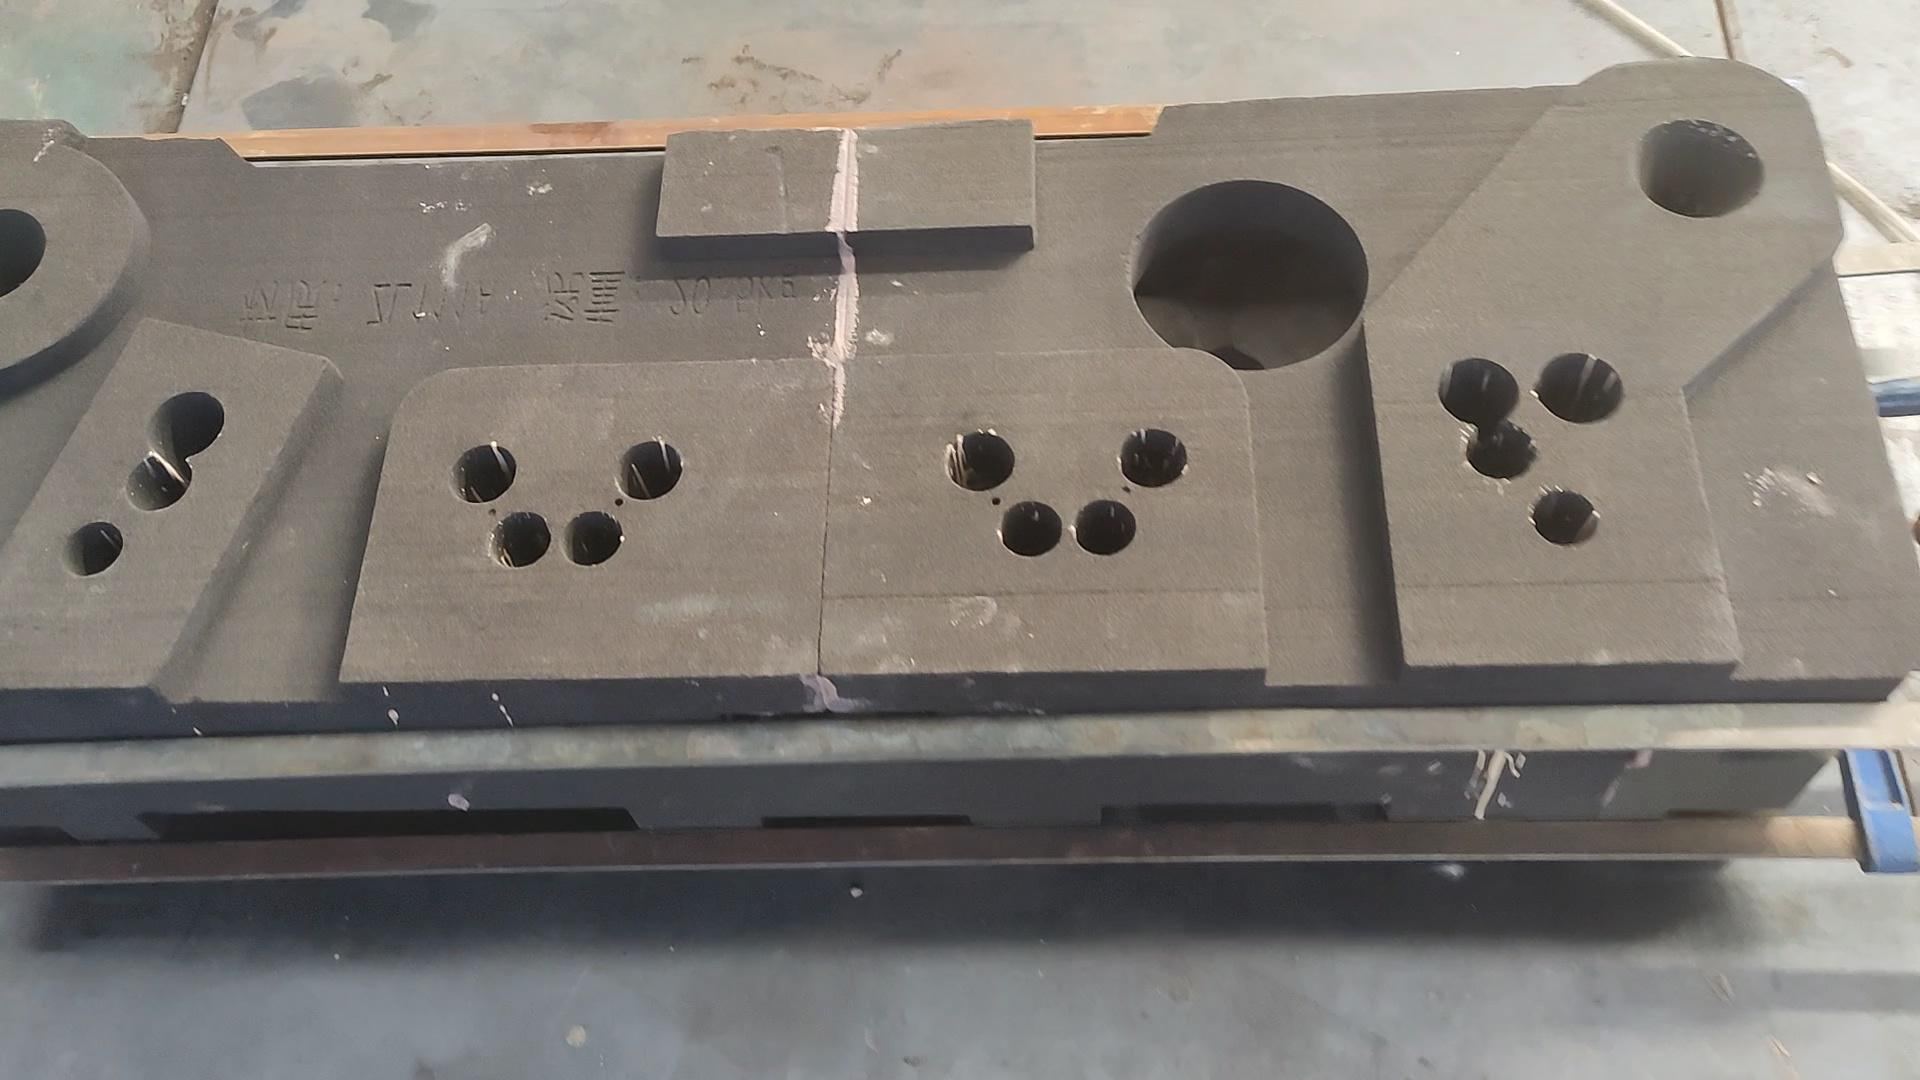pouring hole: (1636, 117, 1766, 220), (1, 204, 47, 303)
